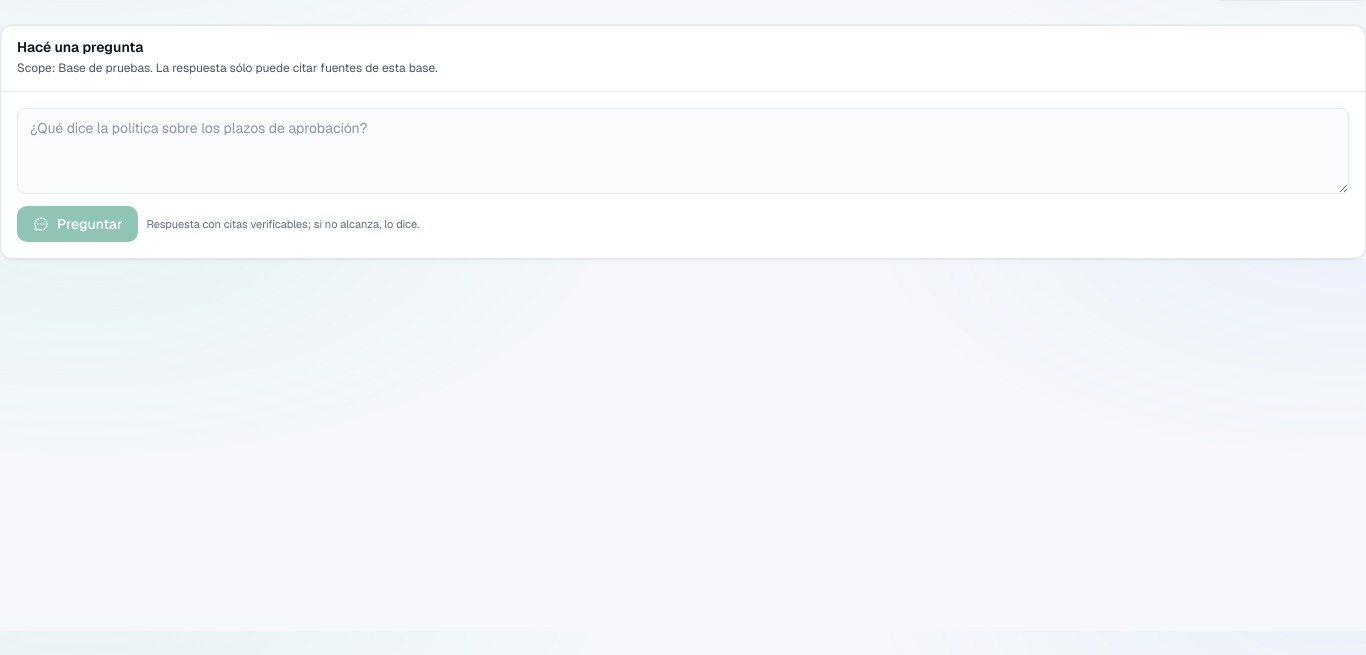
KnowledgeAskPage › responde con cita real y resuelve su evidencia
Type "¿Cuál es el plazo?" into the text box named "Pregunta". click: (683, 151)
box: [17,108,1349,194]
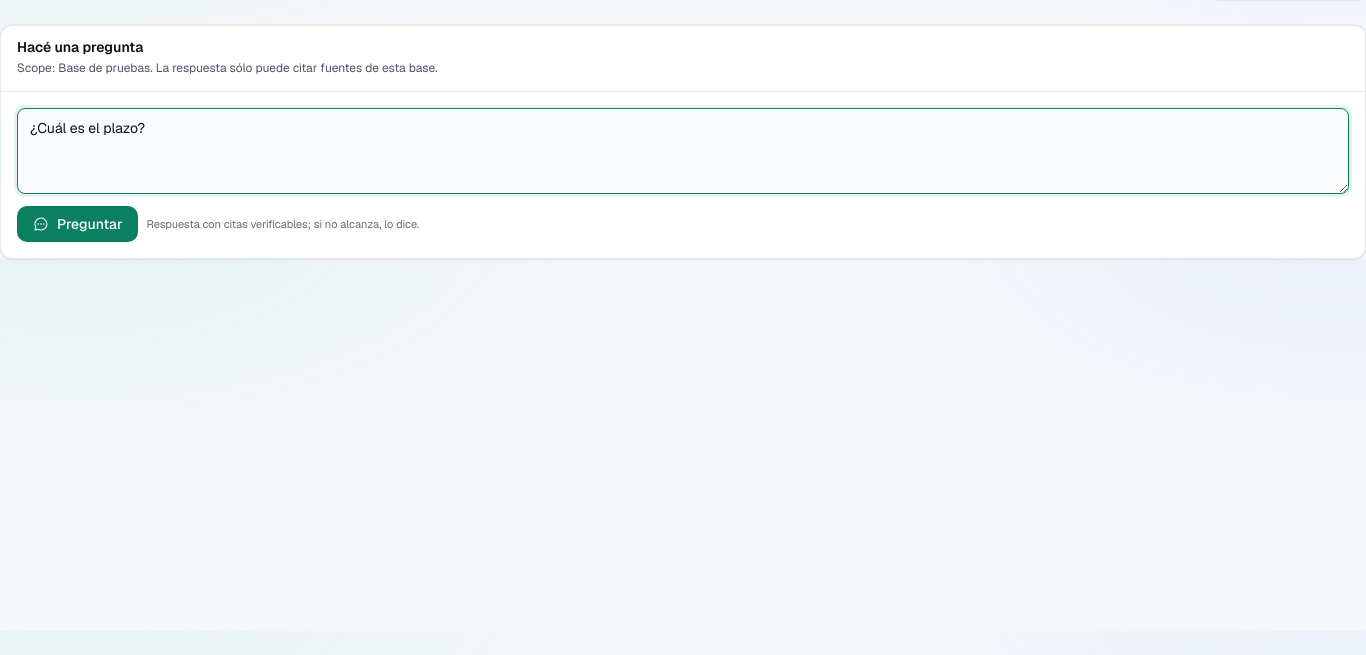
Click the button "Preguntar". click: (78, 224)
box: [17,206,138,242]
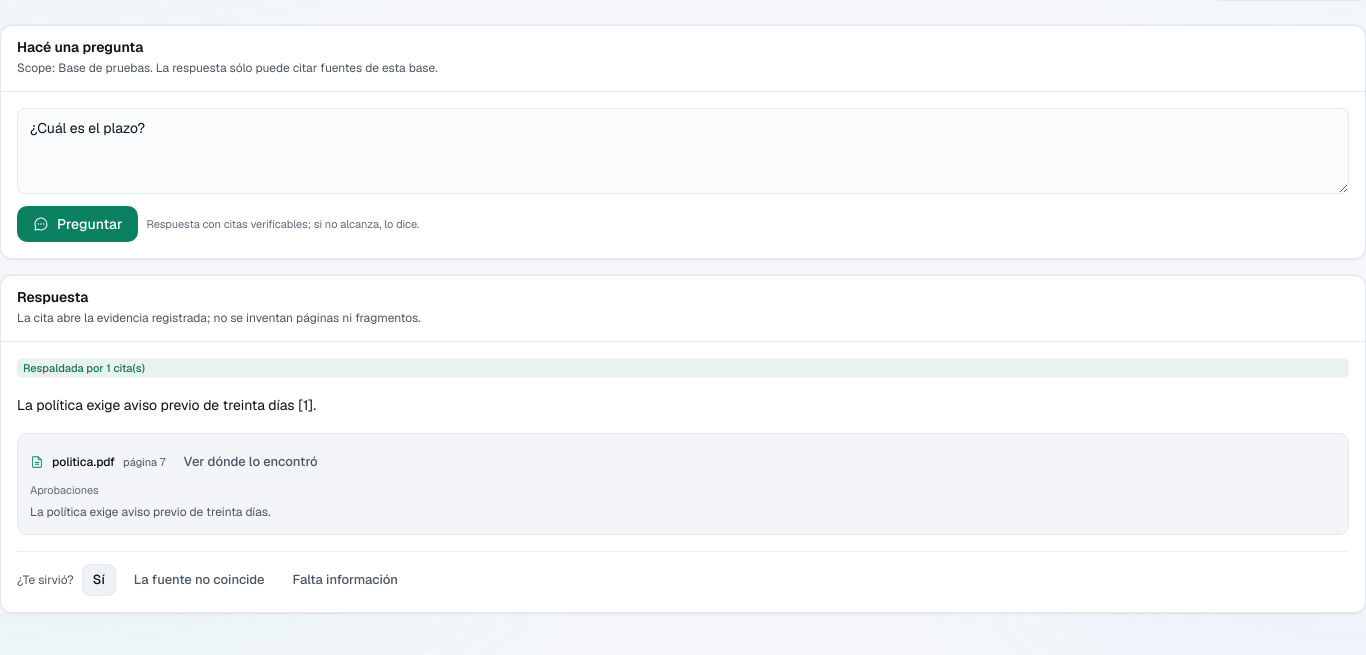
Expected: the element with test id "ask-citations" shows "página 7", [17,433,1349,535]
Click the button "Ver dónde lo encontró". click: (251, 462)
box: [174,446,328,478]
(page scrolled)
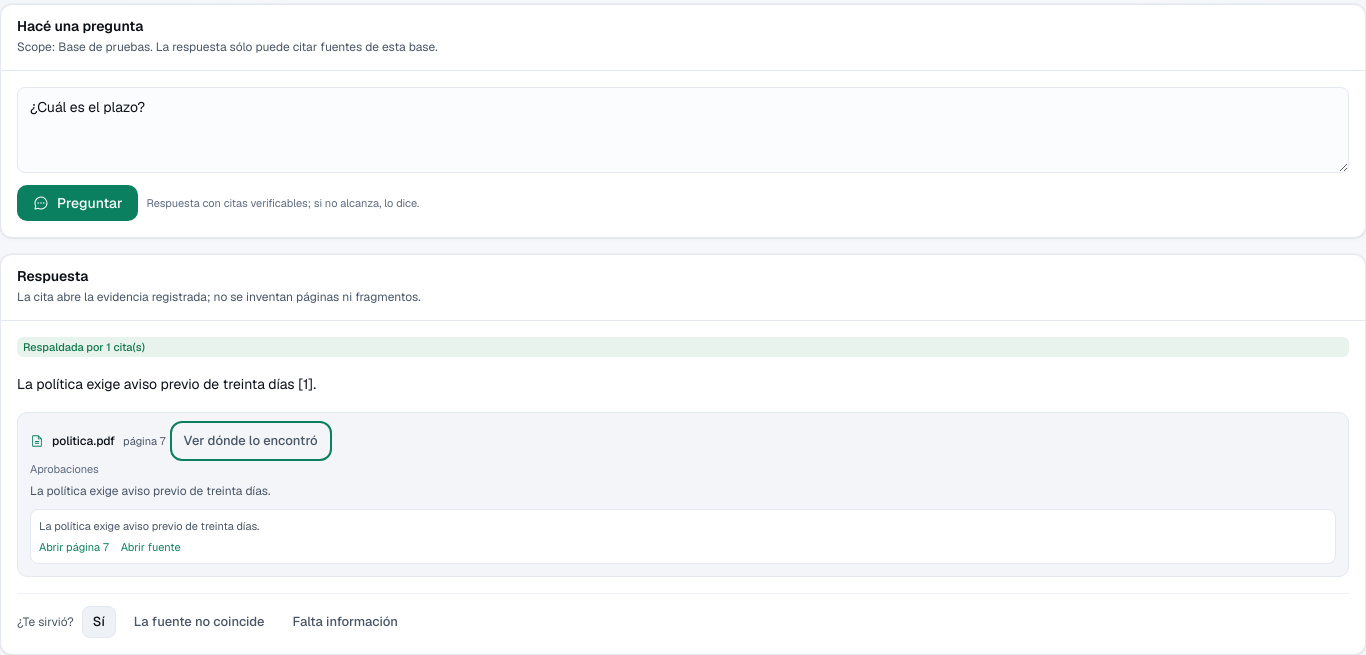
Expected: the link "Abrir fuente" is shown, [121,539,181,555]
Click the button "Sí". click: (99, 622)
box: [82,606,116,638]
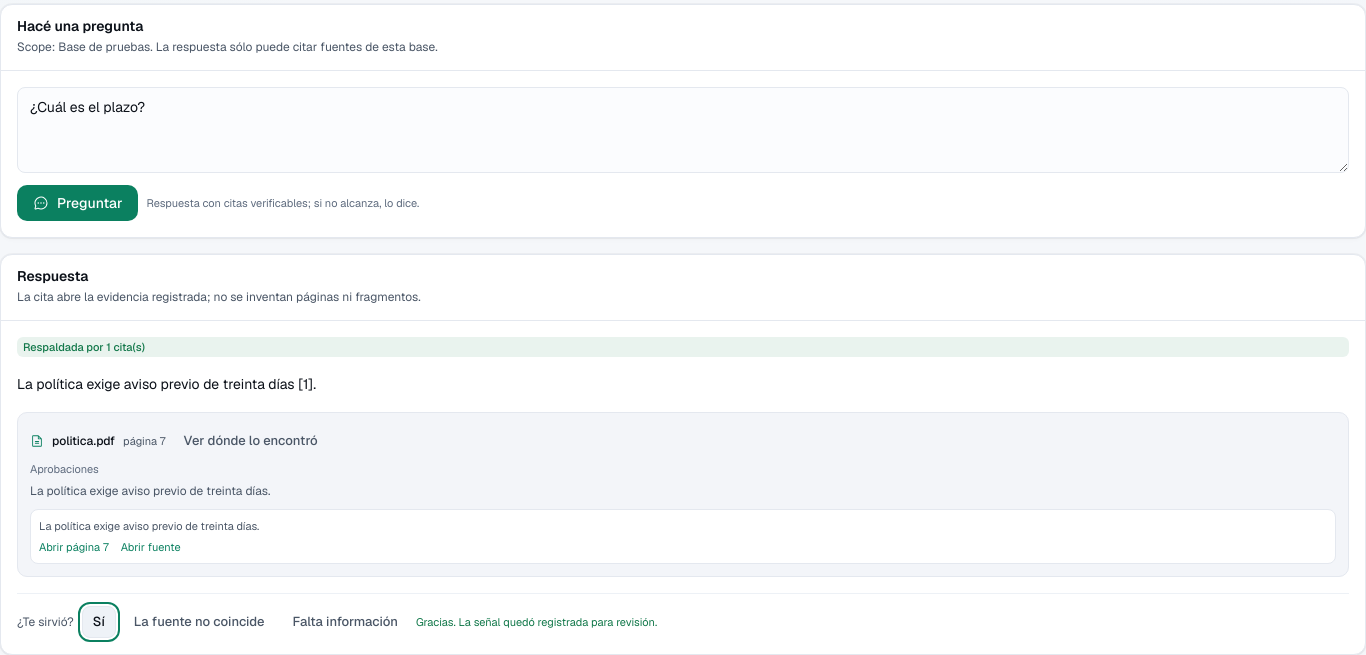
Expected: the text "Gracias. La señal quedó registrada para revisión." is shown, [416,614,657,630]
